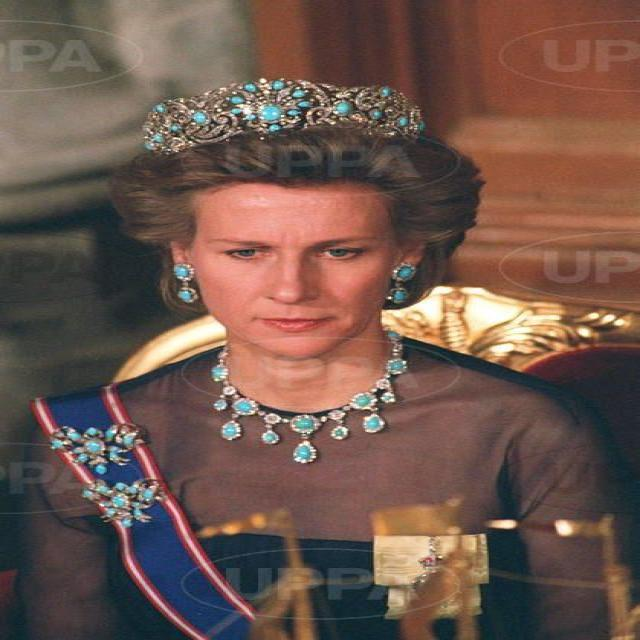Earring: (374, 251, 422, 319), (166, 254, 212, 322)
